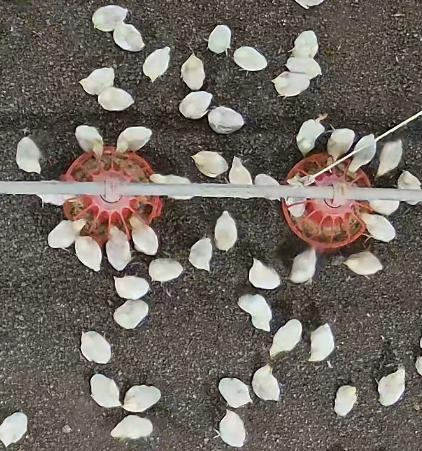chick: (147, 171, 193, 201), (236, 293, 271, 332), (375, 365, 407, 407), (72, 231, 103, 274), (295, 113, 326, 154), (270, 319, 303, 357), (107, 221, 132, 271), (49, 218, 86, 251), (13, 137, 45, 175), (215, 407, 246, 446), (131, 213, 159, 255), (358, 211, 395, 242), (78, 67, 116, 97), (251, 364, 281, 402), (288, 247, 318, 285), (345, 250, 384, 279), (114, 299, 150, 330), (109, 415, 155, 439), (142, 46, 171, 84), (189, 149, 227, 178), (309, 324, 337, 363), (247, 256, 278, 291), (33, 181, 73, 208), (377, 139, 405, 177), (349, 133, 377, 171), (80, 331, 112, 364), (219, 377, 253, 408), (122, 384, 161, 411), (147, 256, 183, 285), (327, 125, 353, 165), (91, 4, 129, 31), (206, 106, 244, 133), (270, 73, 311, 98), (74, 124, 104, 158), (91, 374, 121, 408), (289, 30, 321, 61), (181, 54, 207, 91), (115, 126, 152, 152), (112, 21, 143, 52), (233, 46, 267, 74), (178, 91, 212, 119), (214, 211, 237, 251), (97, 87, 134, 111), (188, 238, 213, 273), (332, 383, 357, 418), (113, 277, 149, 300), (367, 194, 401, 218), (206, 25, 232, 55), (285, 56, 322, 77), (254, 174, 281, 201), (229, 156, 253, 184), (287, 192, 307, 219)
rice: (61, 145, 161, 241), (282, 153, 374, 247)
